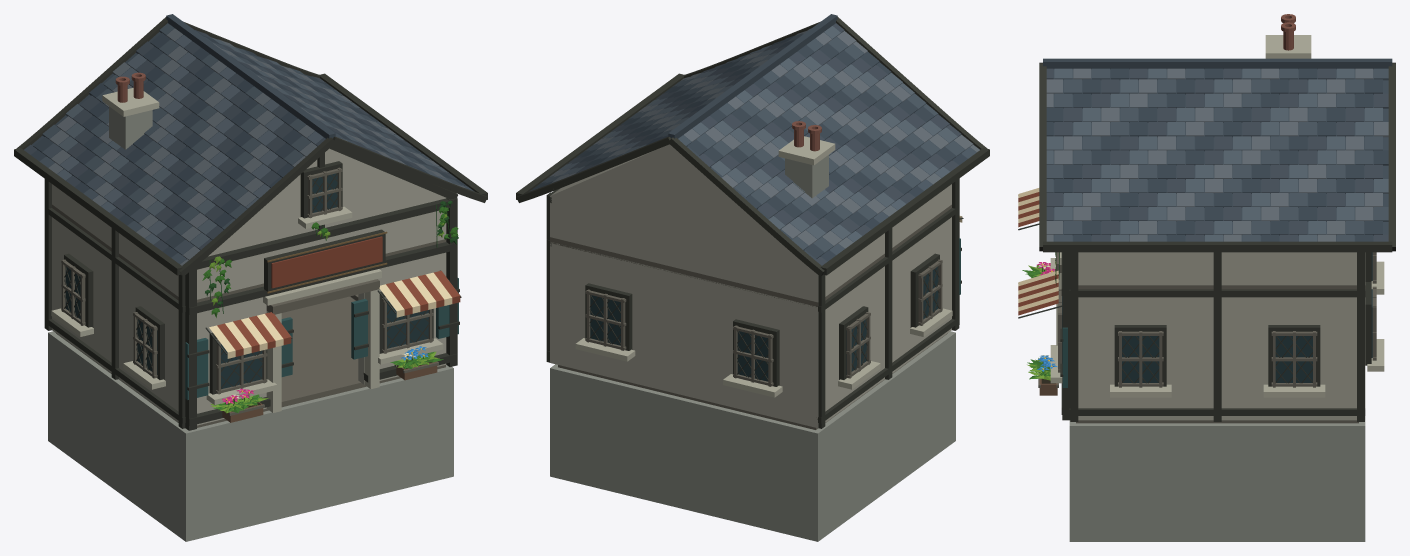
Rendered from village_bookbinder.glb.
The picture shows the model from 3 angles, left to right: view 1: azimuth 30°, elevation 25°; view 2: azimuth 150°, elevation 25°; view 3: azimuth 270°, elevation 25°; orthographic projection. The views are drawn at different scales.
Visible parts, largest first — view 1: village_bookbinder; view 2: village_bookbinder; view 3: village_bookbinder.
Boxes of the visible parts, <box> form: village_bookbinder: <box>14,14,487,541</box>; village_bookbinder: <box>516,14,989,541</box>; village_bookbinder: <box>1018,14,1395,541</box>.
Size of the model in its own units: 8.58 by 10.14 by 8.43.
